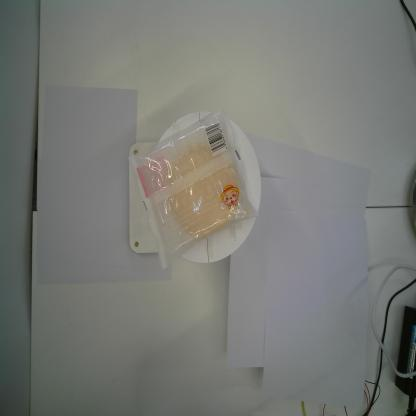Dessert: (126, 105, 259, 271)
